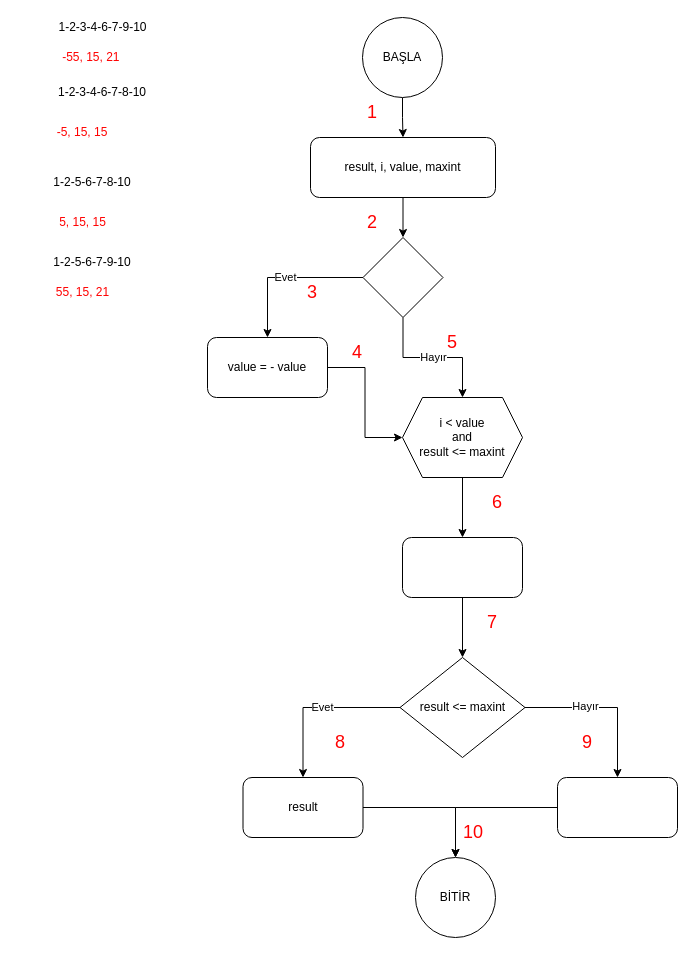
Some shapes in this 695 by 955 pixel diagram are drawn without their labels. Each missing label, with the centre of its shape:
i = i + 1 result = result + i: (x=462, y=567)
too large: (x=617, y=807)
value < 0: (x=402, y=277)
